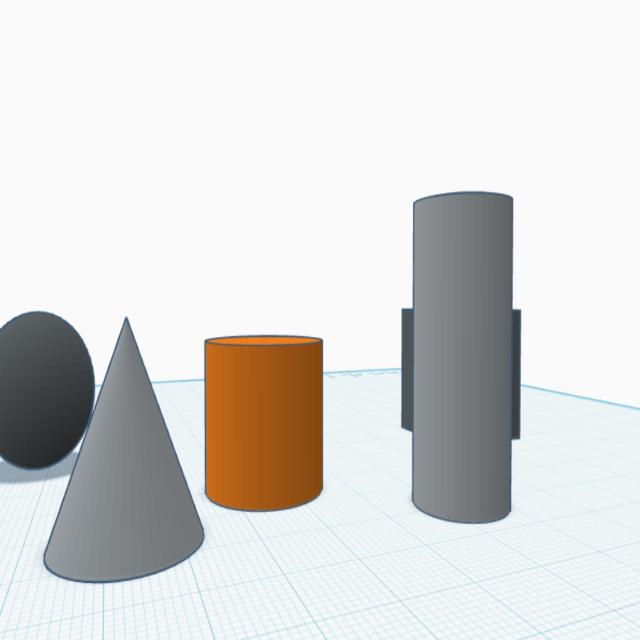cone: (38, 308, 207, 586)
